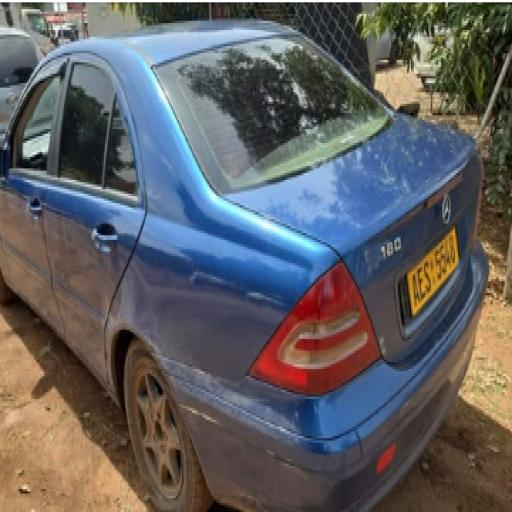number-plates: (411, 234, 457, 304)
